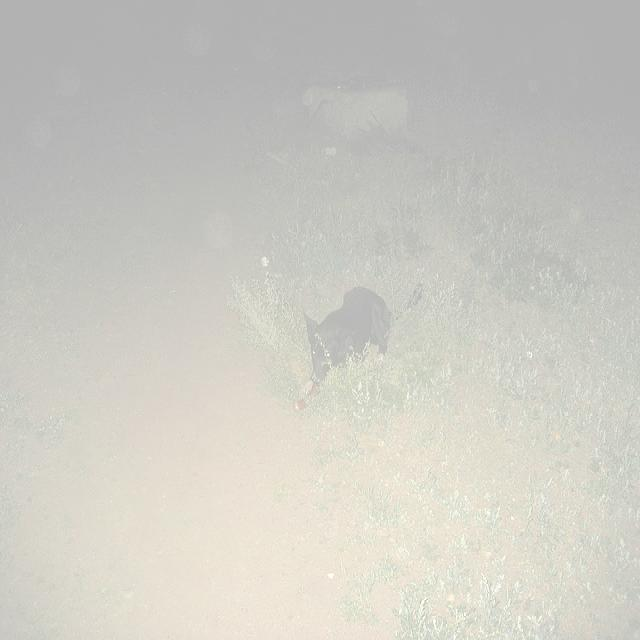Dog: (229, 268, 434, 502)
